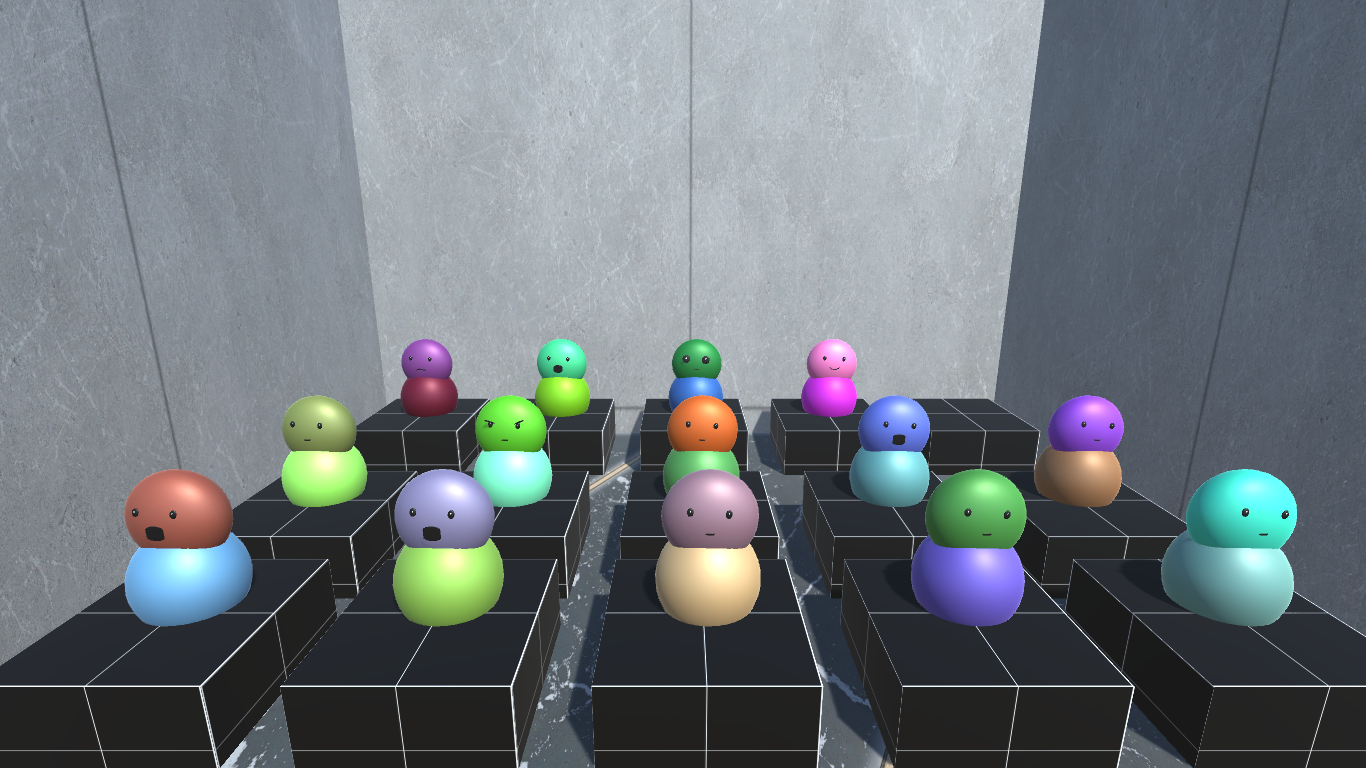blob_atento: (668, 332, 724, 379)
blob_feliz: (804, 335, 860, 376)
blob_normal: (1180, 457, 1311, 559), (914, 469, 1034, 552), (661, 467, 763, 553), (1044, 390, 1130, 456), (279, 393, 360, 453), (663, 397, 743, 457)
blob_raiva: (472, 396, 548, 452)
blob_surpreso: (124, 464, 238, 549), (388, 469, 500, 551), (856, 392, 929, 452), (532, 335, 592, 382)
blob_triste: (401, 335, 456, 382)
